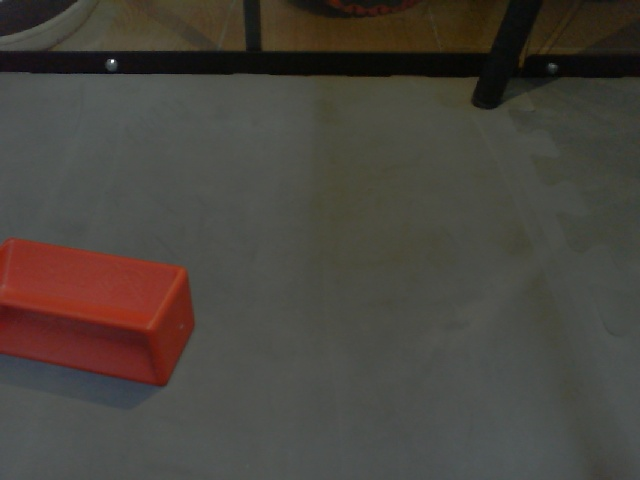RedSample: (1, 236, 198, 392)
